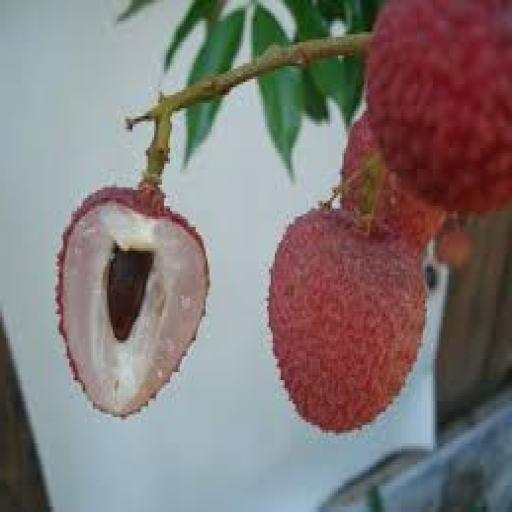lychee: (57, 183, 208, 416), (268, 209, 424, 432), (365, 0, 511, 213), (373, 169, 445, 250), (434, 222, 471, 269)
